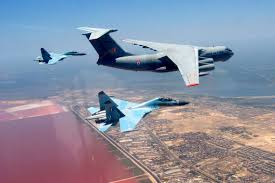maybay_muctieu: (86, 22, 234, 83), (88, 88, 187, 132)
